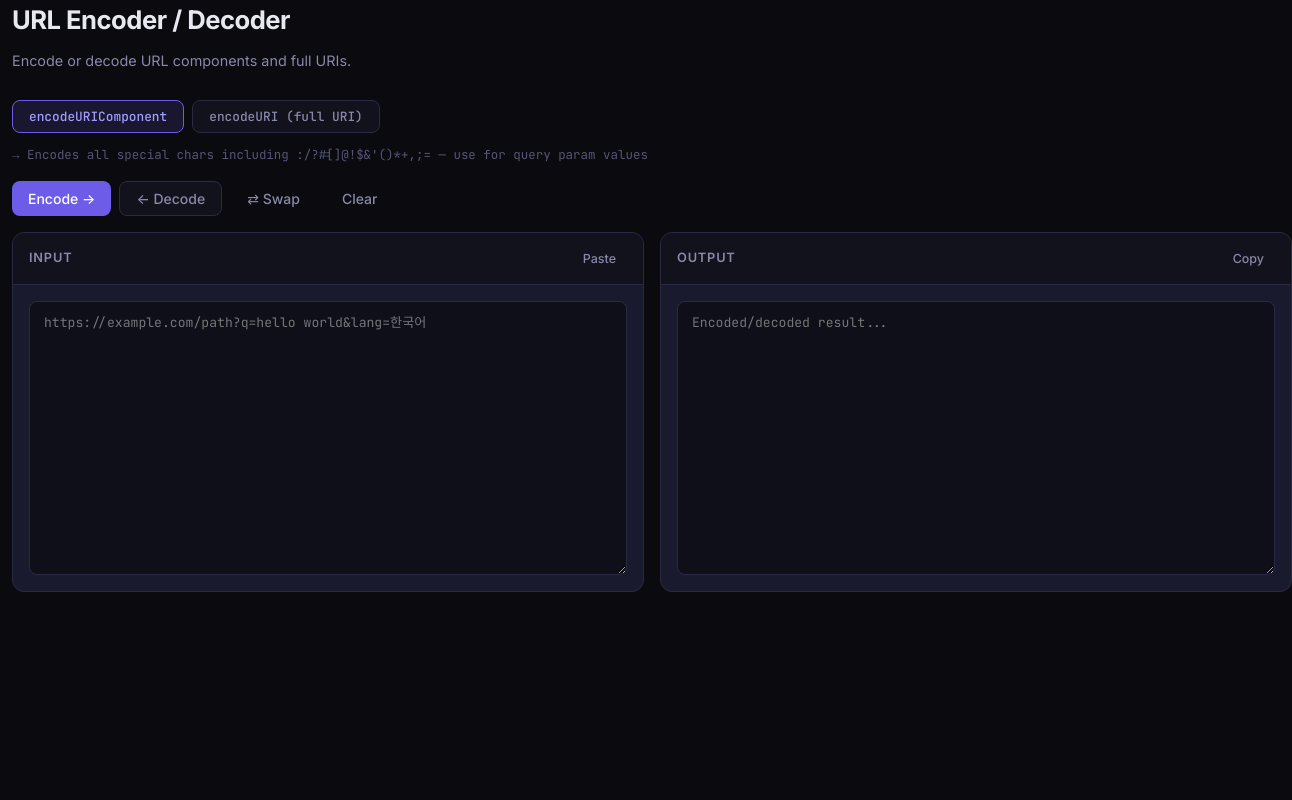
Test: UrlEncoder › encodeURIComponent mode encodes special chars
Type "hello world&foo=bar" into the text box with placeholder "https://example.com/path?q=hello world&lang=한국어" at (328, 438), box 29,301 -> 627,575
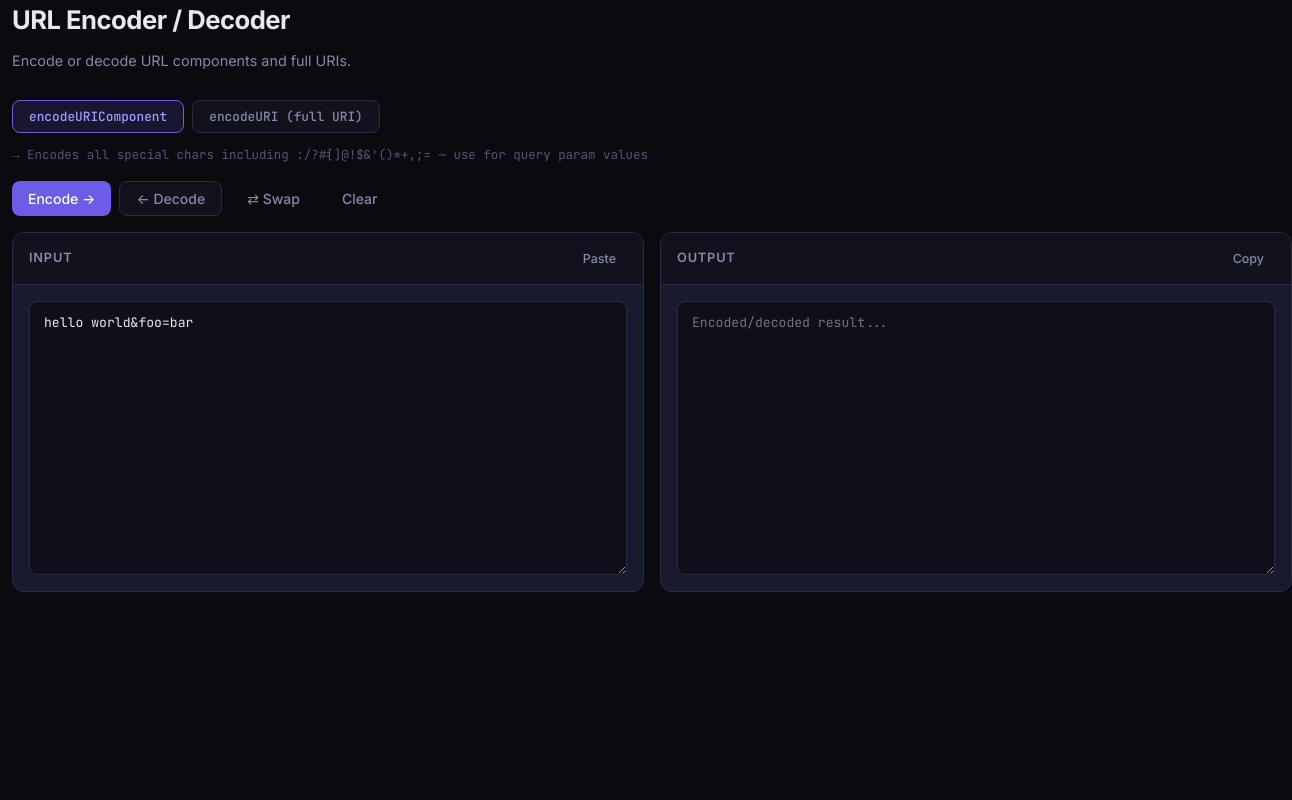
Click the button "Encode →" at (62, 198), box 12,181 -> 111,216
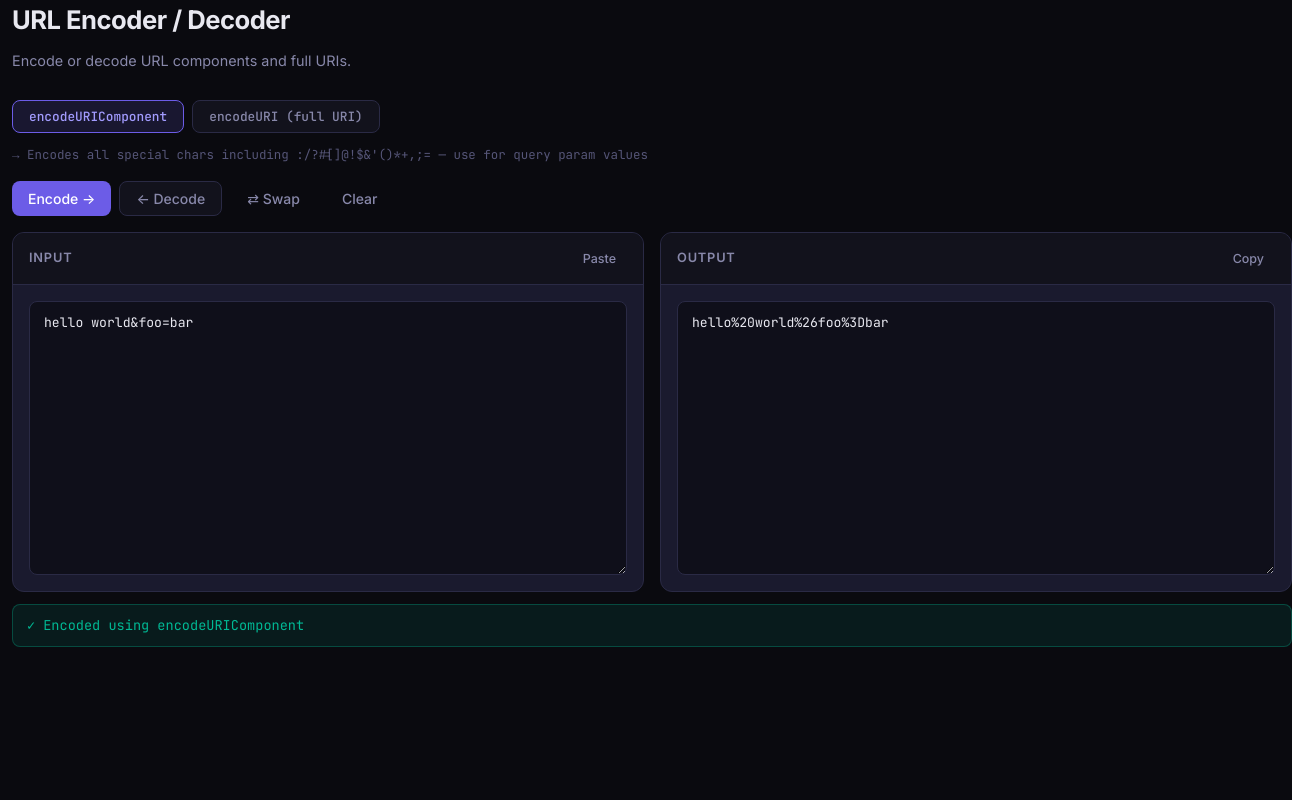
Check: the text box below "Output" holds "hello%20world%26foo%3Dbar", box 677,301 -> 1275,575
